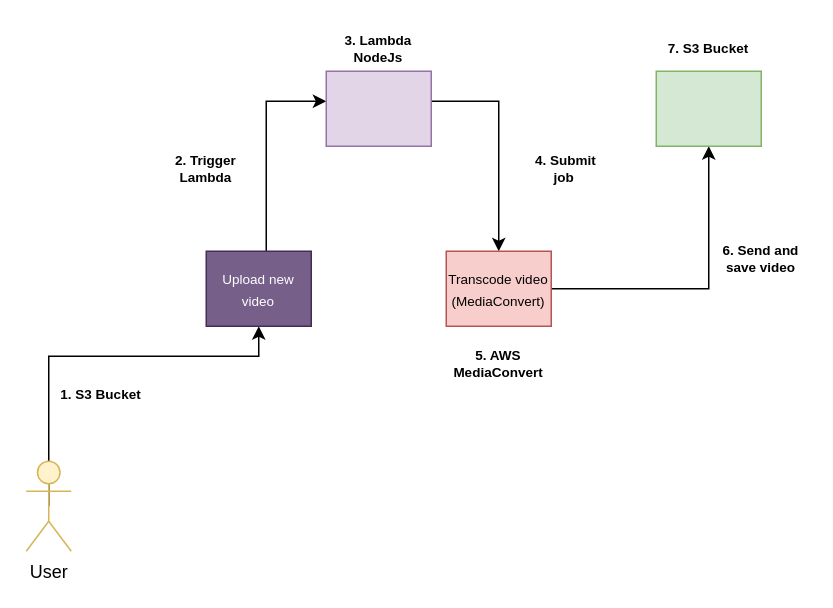
Some shapes in this 833 by 608 pixel diagram are drawn without their labels. Here are the shapes that lost their labels. From the top down, the centre of each, then its label:
(x=378, y=108): Create job for MediaConvert
(x=708, y=108): Save Video in serverless-videotranscoded
